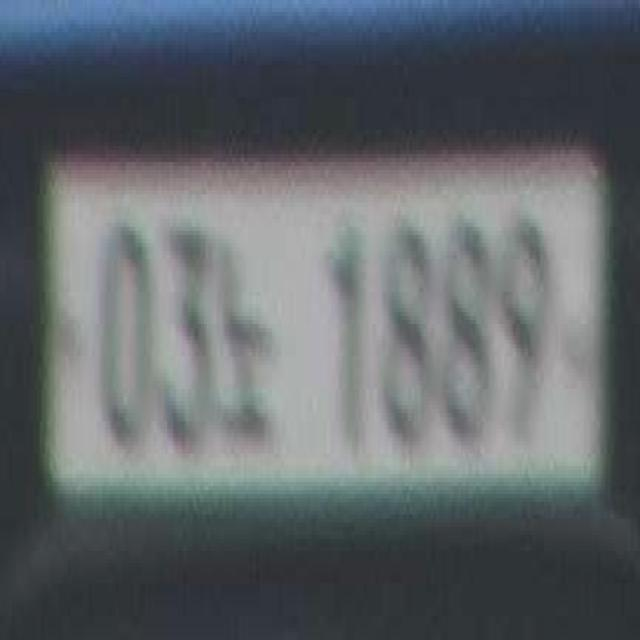illegal_plate: (35, 122, 620, 546)
